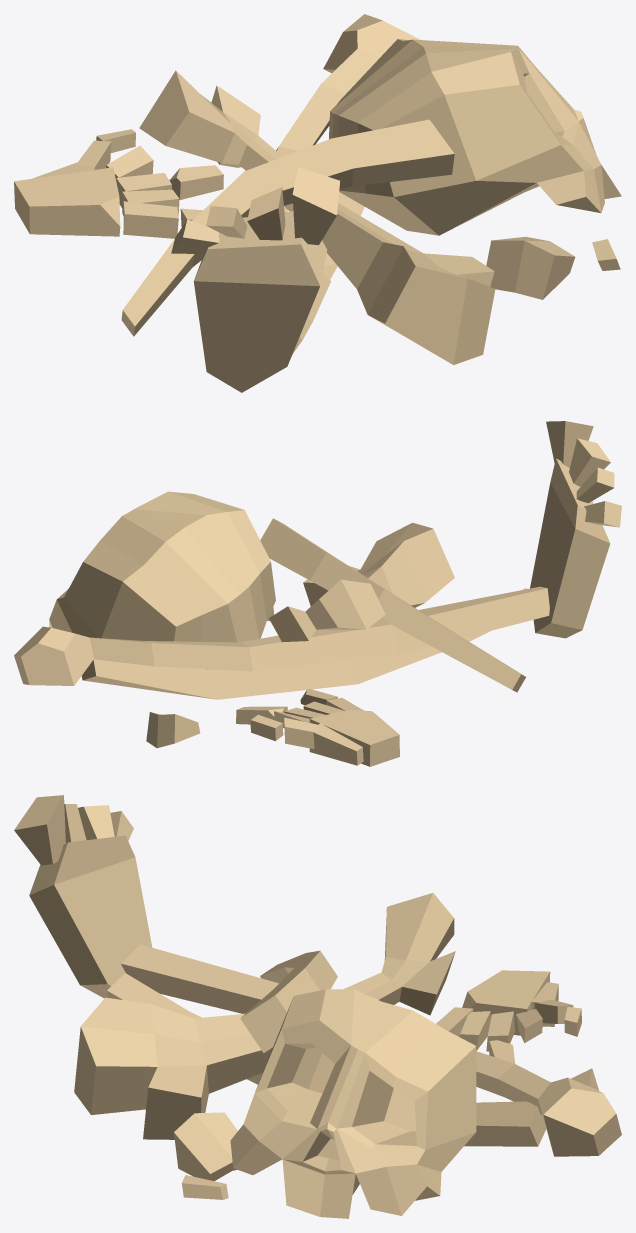
Rendered from Bone_Stack_4__0.glb.
3 views of the same model, one above another, from view 1: azimuth 30°, elevation 25°; view 2: azimuth 150°, elevation 25°; view 3: azimuth 270°, elevation 25° (orthographic). The views are drawn at different scales.
Visible parts, largest first — view 1: Bone_Stack_4__0; view 2: Bone_Stack_4__0; view 3: Bone_Stack_4__0.
Part boxes in pixels (x1=…): Bone_Stack_4__0: x1=14, y1=14, x2=621, y2=392; Bone_Stack_4__0: x1=14, y1=421, x2=621, y2=766; Bone_Stack_4__0: x1=14, y1=795, x2=621, y2=1218.
Size of the model in its own units: 0.5301 by 0.2429 by 0.5434.
1 material, 1 textured.
